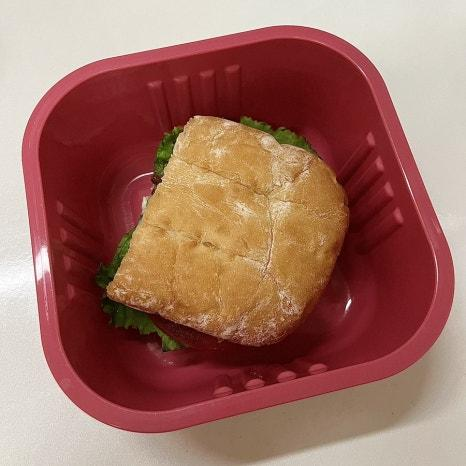Lunch Box: (22, 27, 453, 432)
